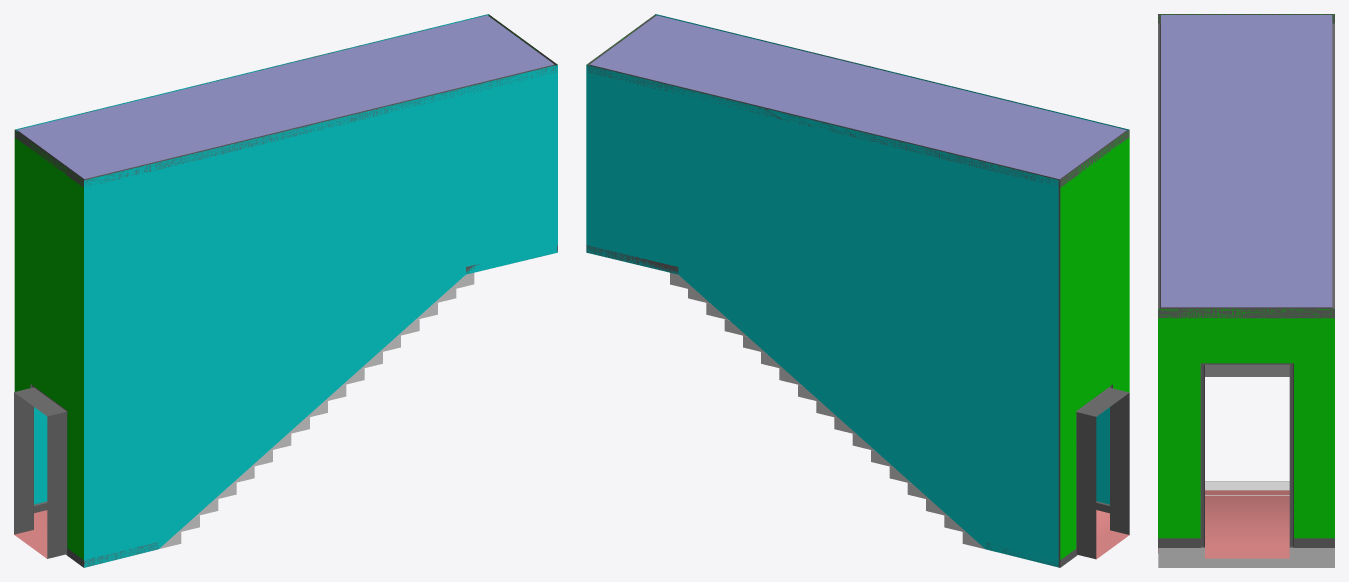
File: Hall_Stairway_Revised.fbx
3 views of the same model, side by side, from view 1: azimuth 30°, elevation 25°; view 2: azimuth 150°, elevation 25°; view 3: azimuth 270°, elevation 25° (orthographic). The views are drawn at different scales.
Visible parts, largest first — view 1: Hall_Stairway, Step17; view 2: Hall_Stairway, Step17; view 3: Hall_Stairway, Step17.
Part boxes in pixels (x1=…): Hall_Stairway: x1=14, y1=14, x2=557, y2=567; Step17: x1=159, y1=273, x2=474, y2=548; Hall_Stairway: x1=586, y1=14, x2=1129, y2=567; Step17: x1=670, y1=272, x2=984, y2=548; Hall_Stairway: x1=1158, y1=14, x2=1334, y2=558; Step17: x1=1158, y1=481, x2=1334, y2=567.
Size of the model in its own units: 768 by 558 by 181.
